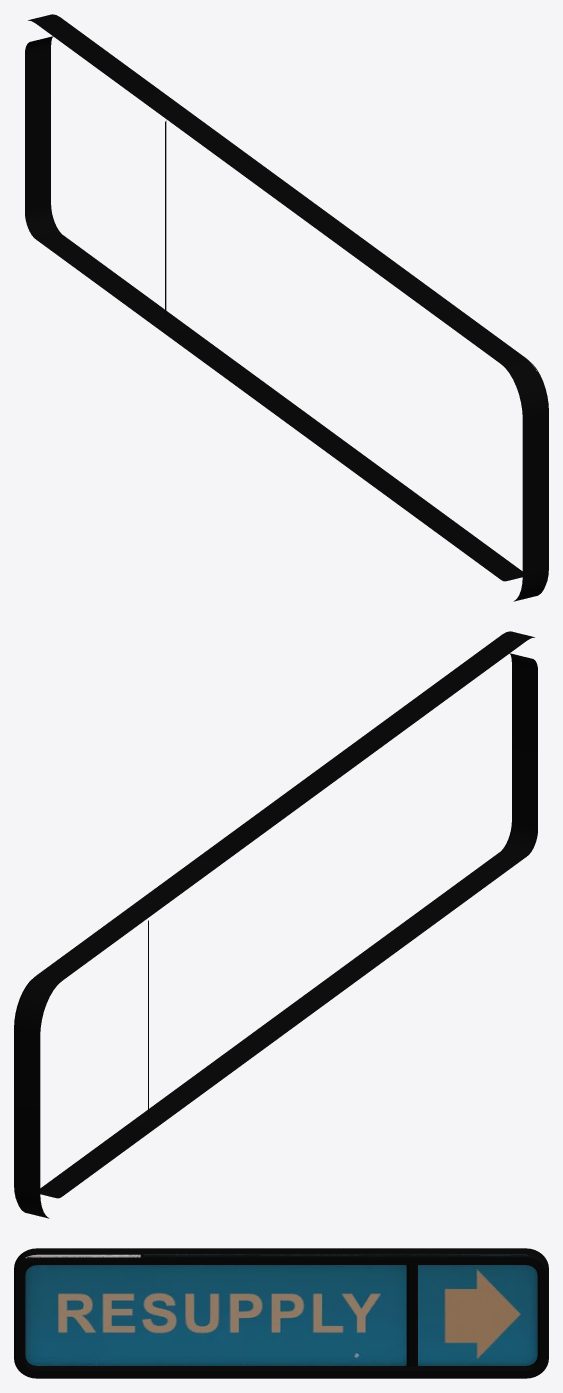
3 views of the same model, one above another, from view 1: azimuth 30°, elevation 25°; view 2: azimuth 150°, elevation 25°; view 3: azimuth 270°, elevation 25° (orthographic). The views are drawn at different scales.
Parts seen in each view (by area): view 1: body0_model0_lod0_mesh0; view 2: body0_model0_lod0_mesh0; view 3: body0_model0_lod0_mesh0.
Part boxes in pixels (bbox=[...]): body0_model0_lod0_mesh0: bbox=[25, 14, 548, 601]; body0_model0_lod0_mesh0: bbox=[14, 631, 537, 1218]; body0_model0_lod0_mesh0: bbox=[14, 1248, 548, 1378].
Size of the model in its own units: 1.5 by 12 by 47.
Materials: 1 (1 with a texture image).
